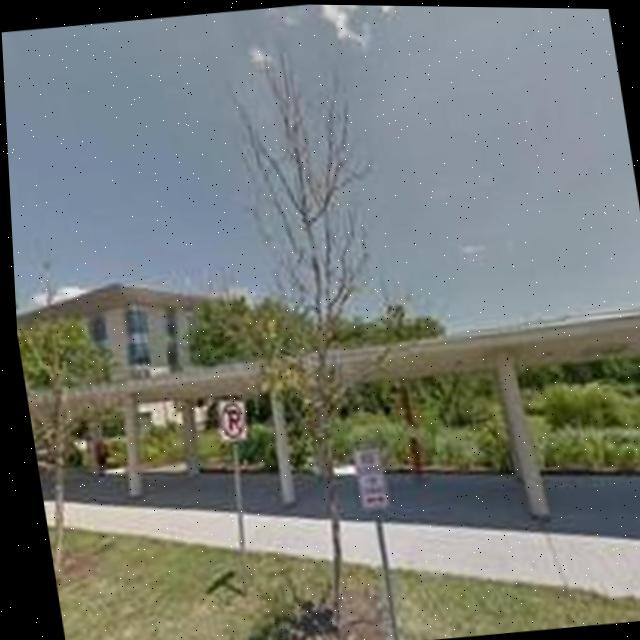building: (12, 224, 640, 584)
